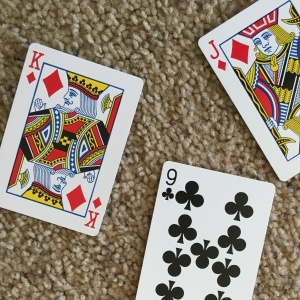card: (1, 44, 143, 236)
